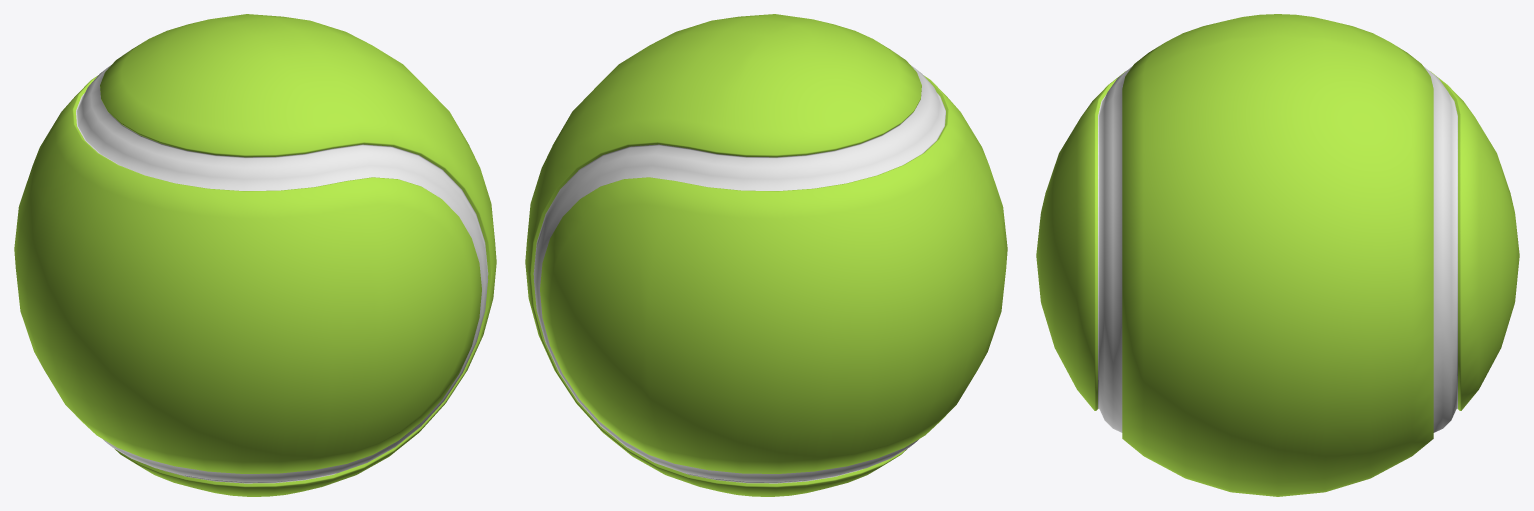
File: balle.glb
The picture shows the model from 3 angles, left to right: view 1: azimuth 30°, elevation 25°; view 2: azimuth 150°, elevation 25°; view 3: azimuth 270°, elevation 25°; orthographic projection.
Visible parts, largest first — view 1: Sphere; view 2: Sphere; view 3: Sphere.
Boxes of the visible parts, x1,y1,x2,y2 form: Sphere: (14,14,496,496); Sphere: (525,14,1007,496); Sphere: (1036,14,1519,496).
Size of the model in its own units: 2 by 2 by 2.
